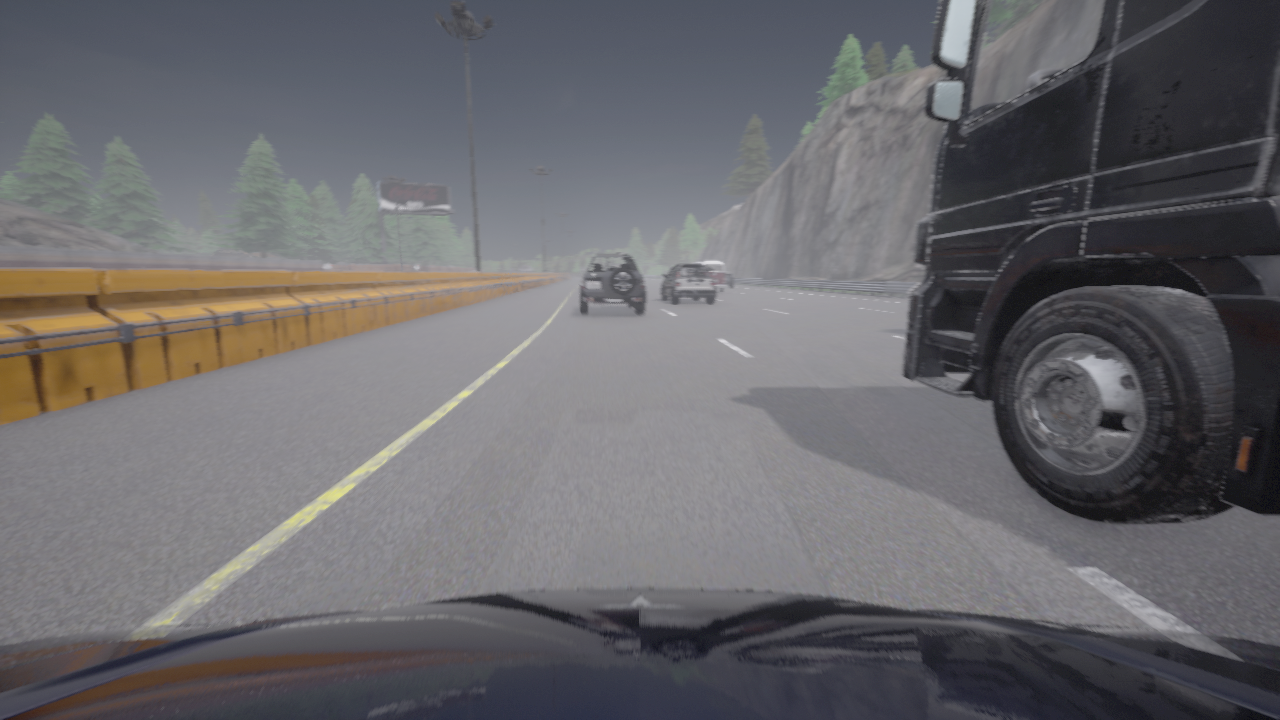cyclist: (901, 0, 1279, 524), (0, 588, 1279, 719), (579, 252, 645, 314), (661, 264, 715, 303), (691, 260, 726, 292), (725, 270, 732, 287)
